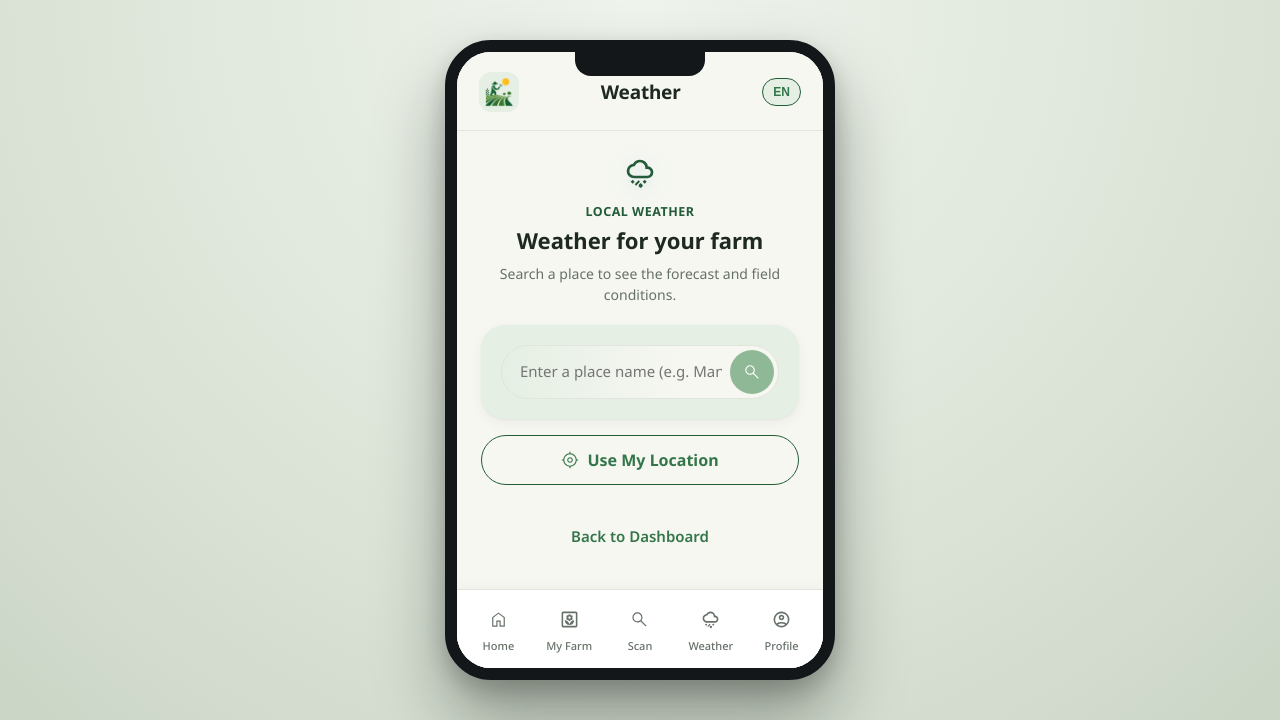
Test: WeatherPage › shows the server's graceful fallback message when the weather API is unavailable
Type "Nowhereville" into the field with placeholder "Enter a place name (e.g. Mangaluru)" at (621, 372), box [518,359,724,385]
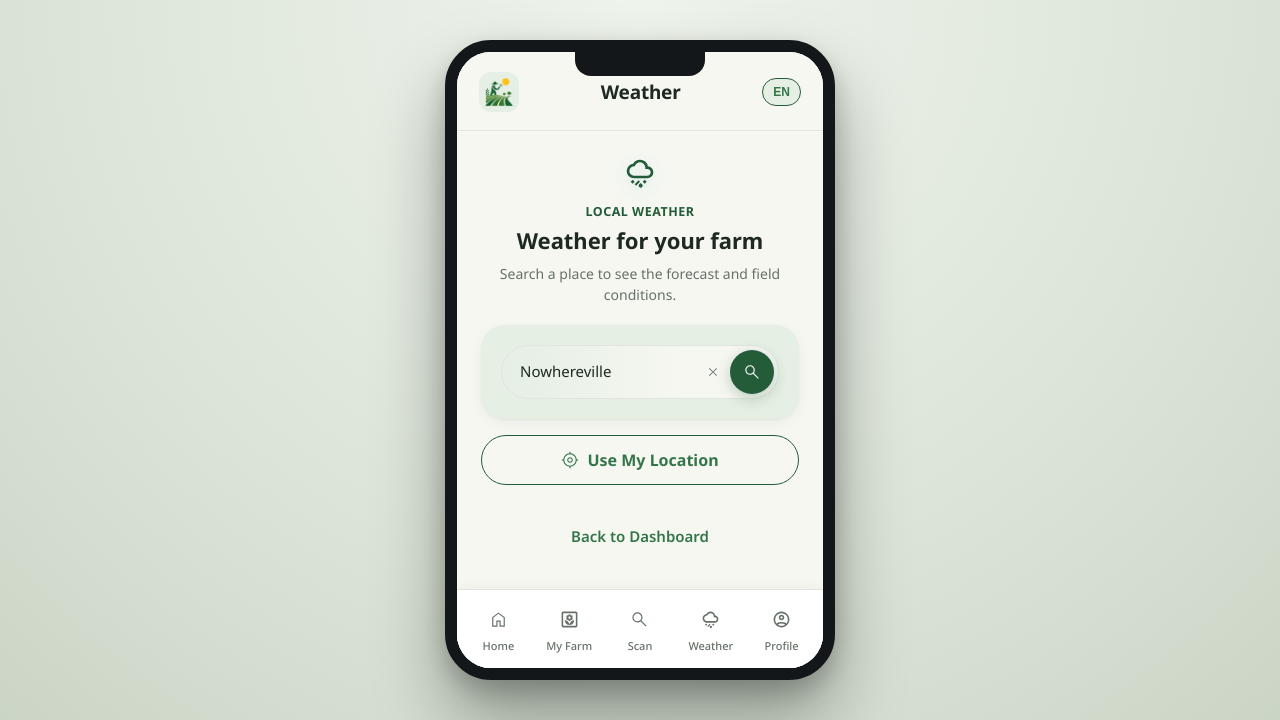
Click the button named "search" at (752, 372), box [730,350,774,394]
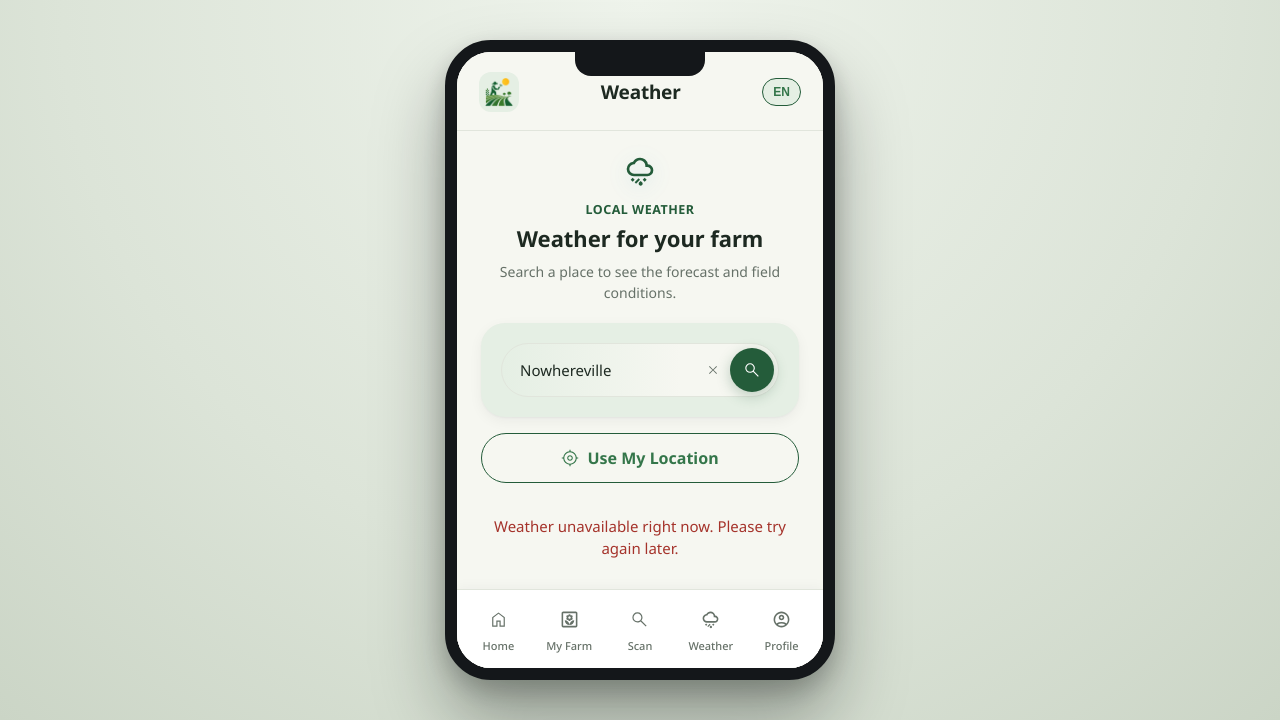
Check: the message shows "Weather unavailable right now", box [494,516,786,558]
